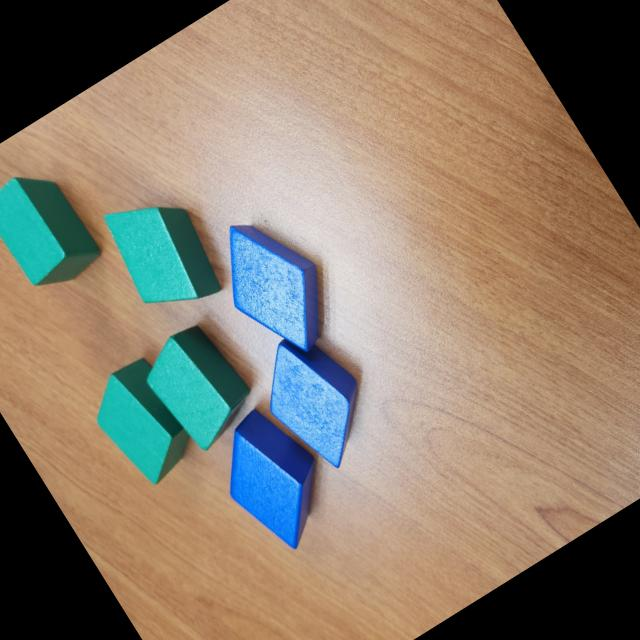blue: (198, 198, 354, 374), (198, 394, 350, 564), (240, 316, 392, 483)
green: (91, 174, 232, 328), (132, 312, 266, 457), (77, 352, 207, 494), (0, 156, 107, 301)
